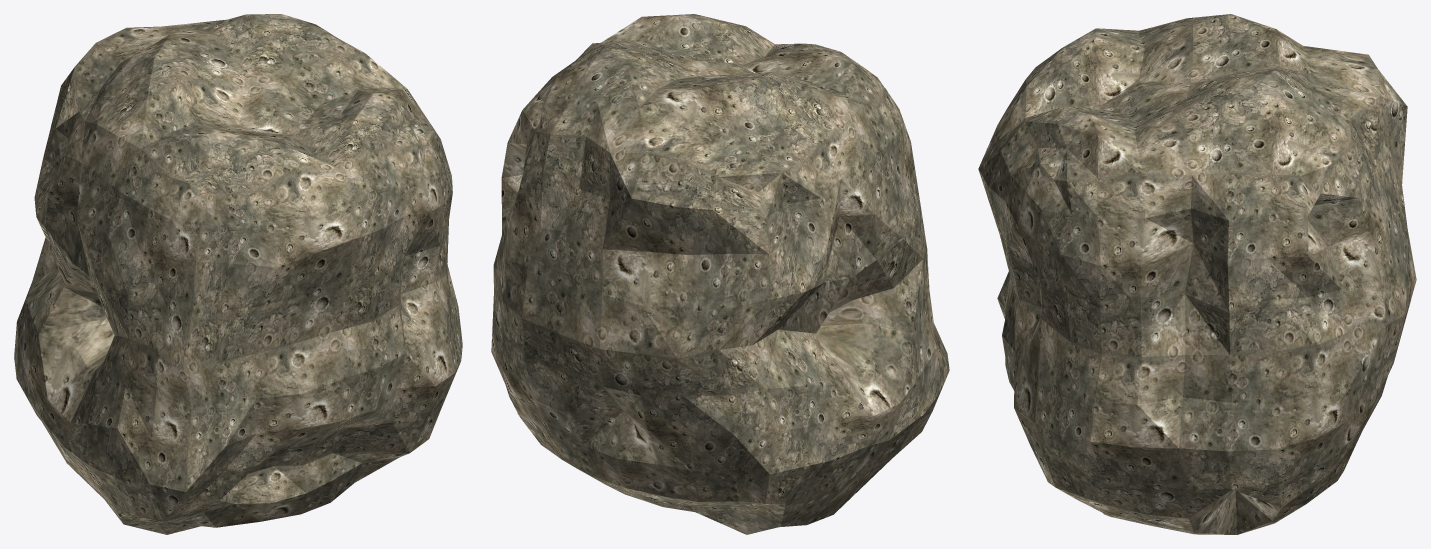
Rendered from asteroid_all_mammoth_02_l0.fbx.
3 renders of one model, left to right at view 1: azimuth 30°, elevation 25°; view 2: azimuth 150°, elevation 25°; view 3: azimuth 270°, elevation 25°, orthographic. The views are drawn at different scales.
Visible parts, largest first — view 1: mesh_node; view 2: mesh_node; view 3: mesh_node.
Part boxes in pixels (bbox=[...]): mesh_node: bbox=[14, 14, 462, 534]; mesh_node: bbox=[491, 14, 949, 534]; mesh_node: bbox=[978, 14, 1416, 534].
Bounding box in the file's own units: 245 × 296 × 248.
